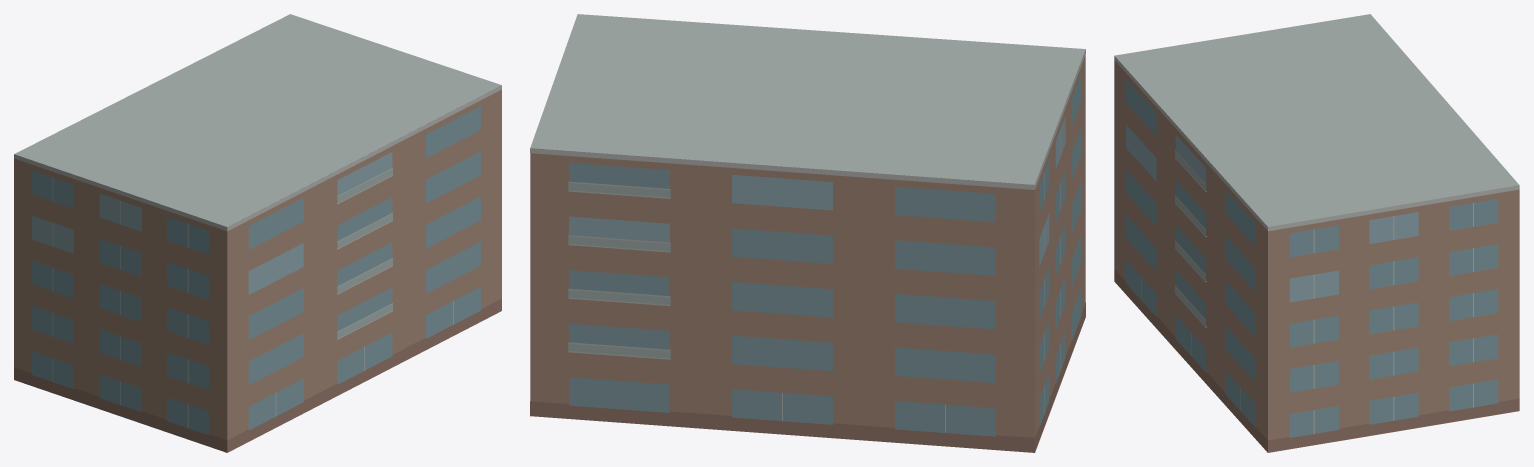
The model's file is survey-upis-32862350.glb.
3 renders of one model, left to right at view 1: azimuth 30°, elevation 25°; view 2: azimuth 150°, elevation 25°; view 3: azimuth 270°, elevation 25°, orthographic. The views are drawn at different scales.
Visible parts, largest first — view 1: survey-upis-32862350.tmp; view 2: survey-upis-32862350.tmp; view 3: survey-upis-32862350.tmp.
Part boxes in pixels (x1,y1,x2,y2): survey-upis-32862350.tmp: (14,14,501,452); survey-upis-32862350.tmp: (530,14,1085,452); survey-upis-32862350.tmp: (1114,14,1519,452).
Size of the model in its own units: 26.11 by 12.9 by 20.99.
